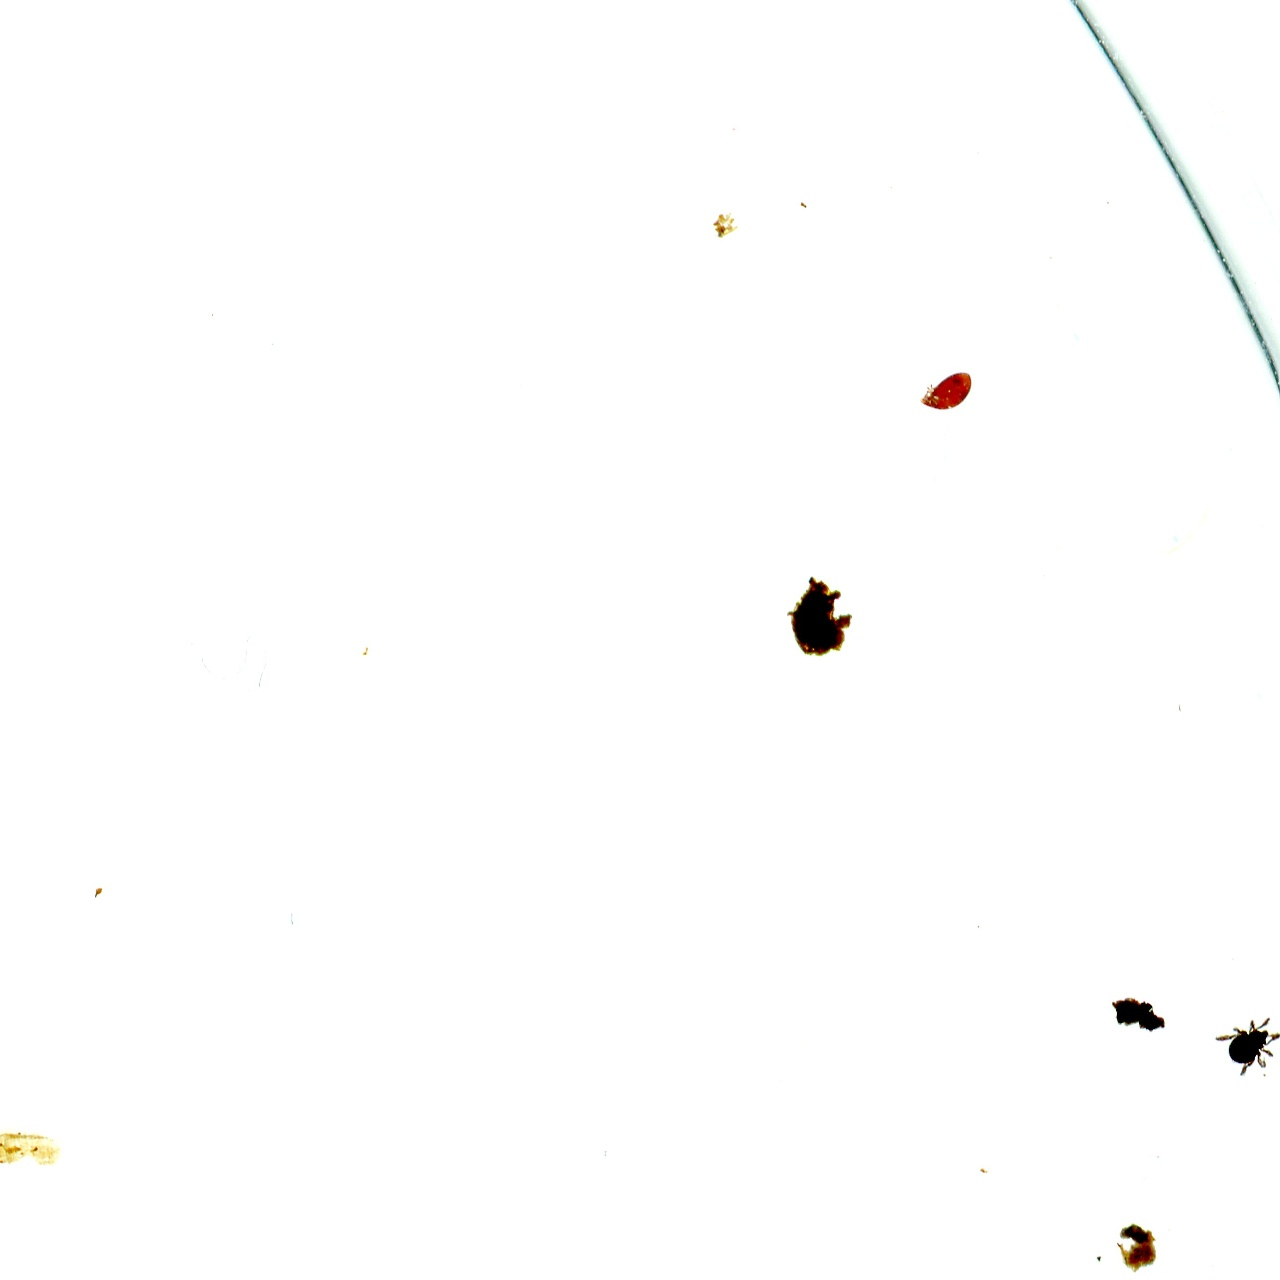arthropod: (1211, 1014, 1280, 1078), (919, 365, 975, 415)
